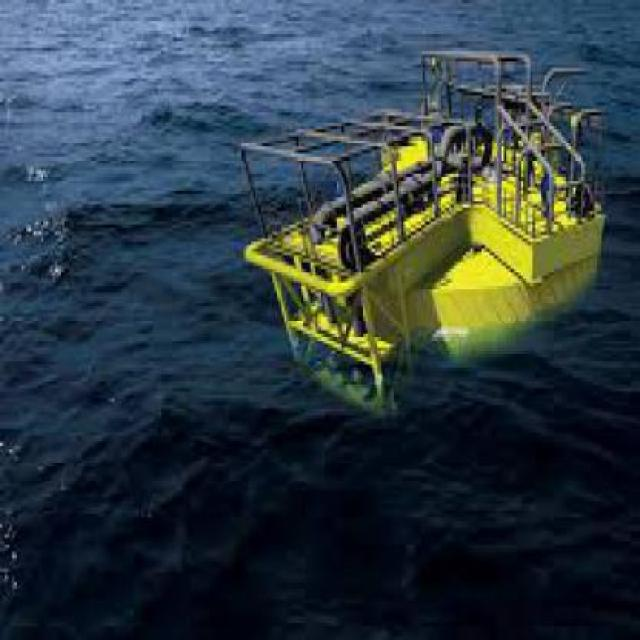buoy: (227, 31, 615, 437)
